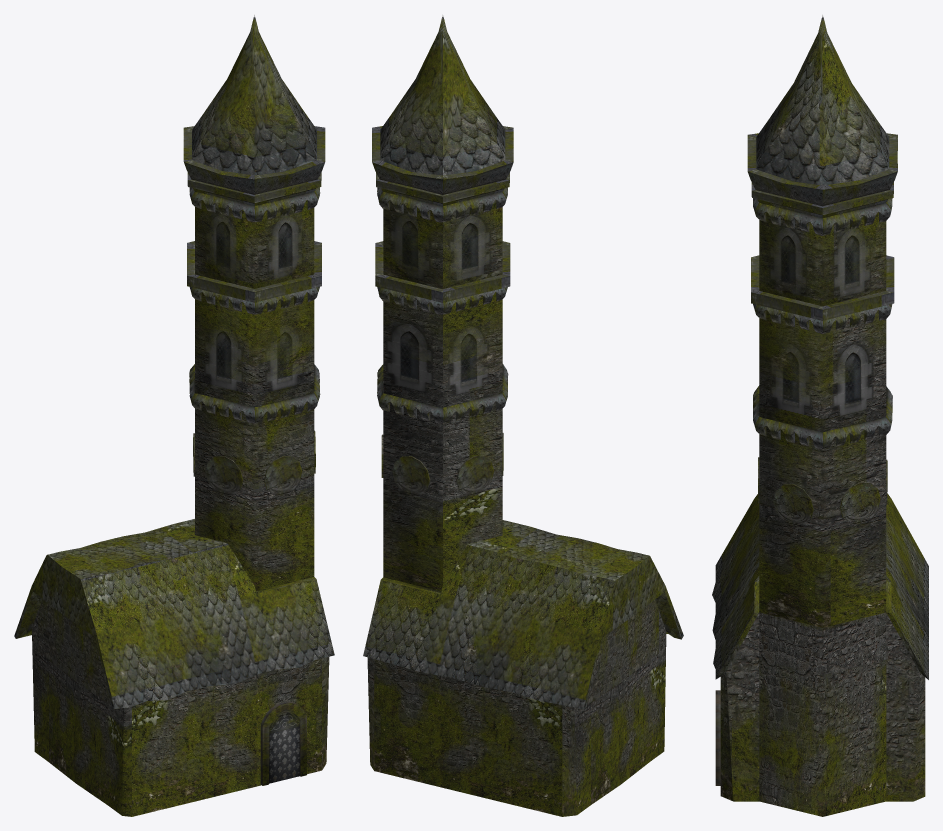
Rendered from spire.fbx.
3 views of the same model, side by side, from view 1: azimuth 30°, elevation 25°; view 2: azimuth 150°, elevation 25°; view 3: azimuth 270°, elevation 25° (orthographic). The views are drawn at different scales.
Parts seen in each view (by area): view 1: spire; view 2: spire; view 3: spire.
Part boxes in pixels (bbox=[...]): spire: bbox=[14, 14, 334, 816]; spire: bbox=[363, 14, 683, 816]; spire: bbox=[712, 14, 928, 816].
Bounding box in the file's own units: 1005 × 2656 × 676.
